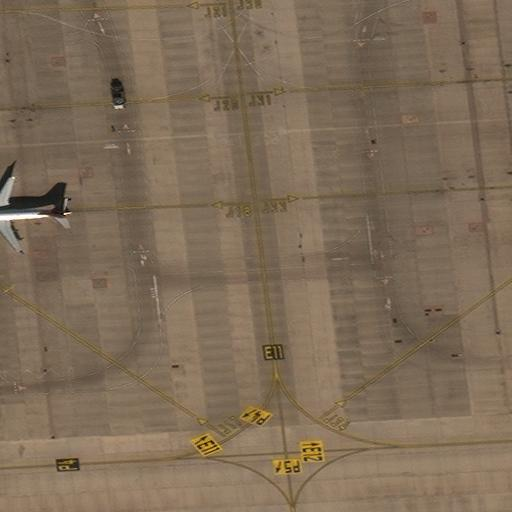Medium Civil Transport: (0, 176, 72, 252)
